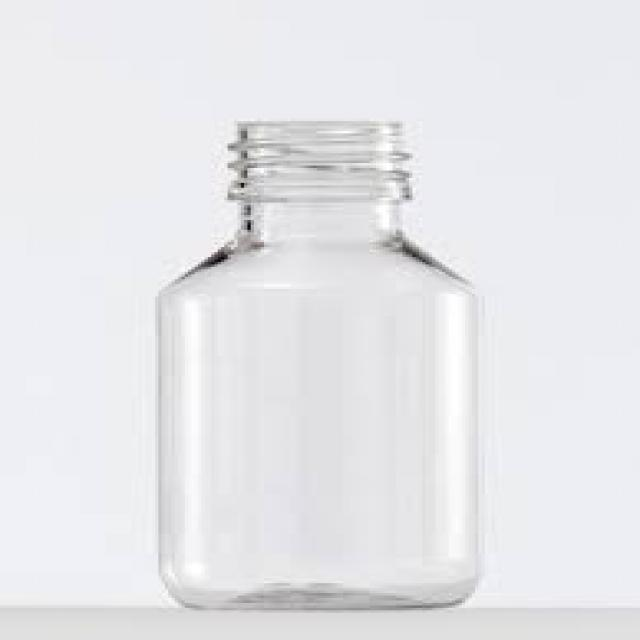Glass-Non-Biodegradable but Recyclable-: (152, 120, 498, 615)
